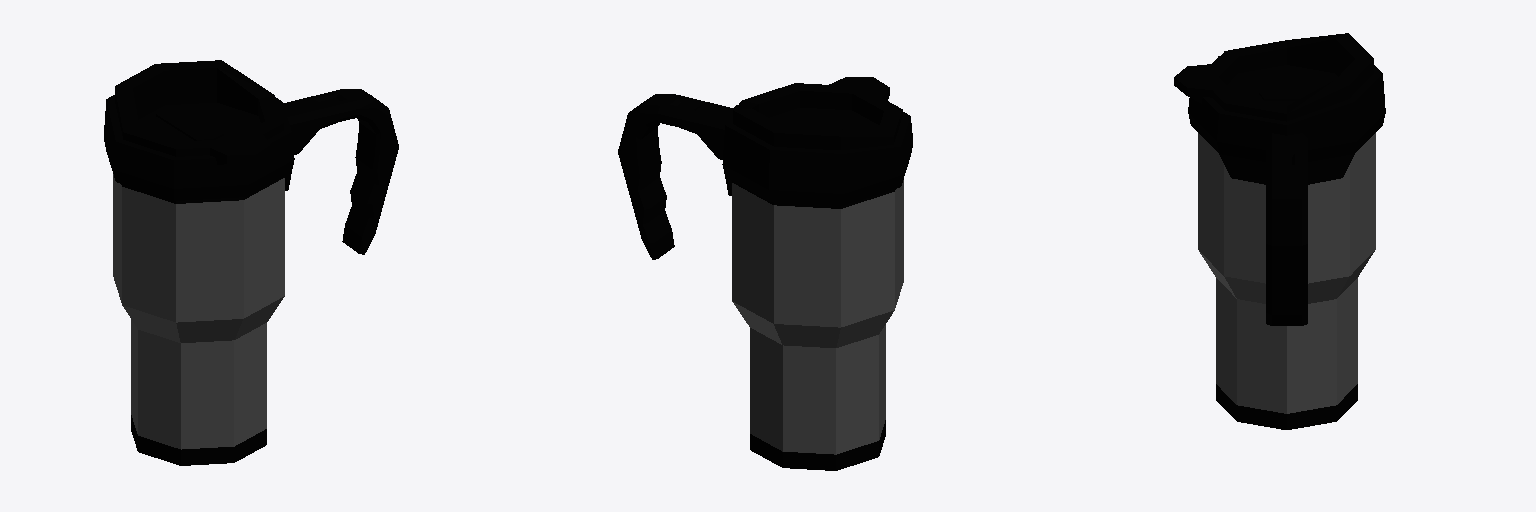
The model's file is TravelMug.obj.
3 views of the same model, side by side, from view 1: azimuth 30°, elevation 25°; view 2: azimuth 150°, elevation 25°; view 3: azimuth 270°, elevation 25° (orthographic).
Visible parts, largest first — view 1: TravelMug_Cube.002; view 2: TravelMug_Cube.002; view 3: TravelMug_Cube.002.
Part boxes in pixels (bbox=[...]): TravelMug_Cube.002: bbox=[104, 60, 398, 465]; TravelMug_Cube.002: bbox=[618, 77, 912, 470]; TravelMug_Cube.002: bbox=[1174, 33, 1385, 429].
Bounding box in the file's own units: 1.18 × 1.38 × 0.7757.